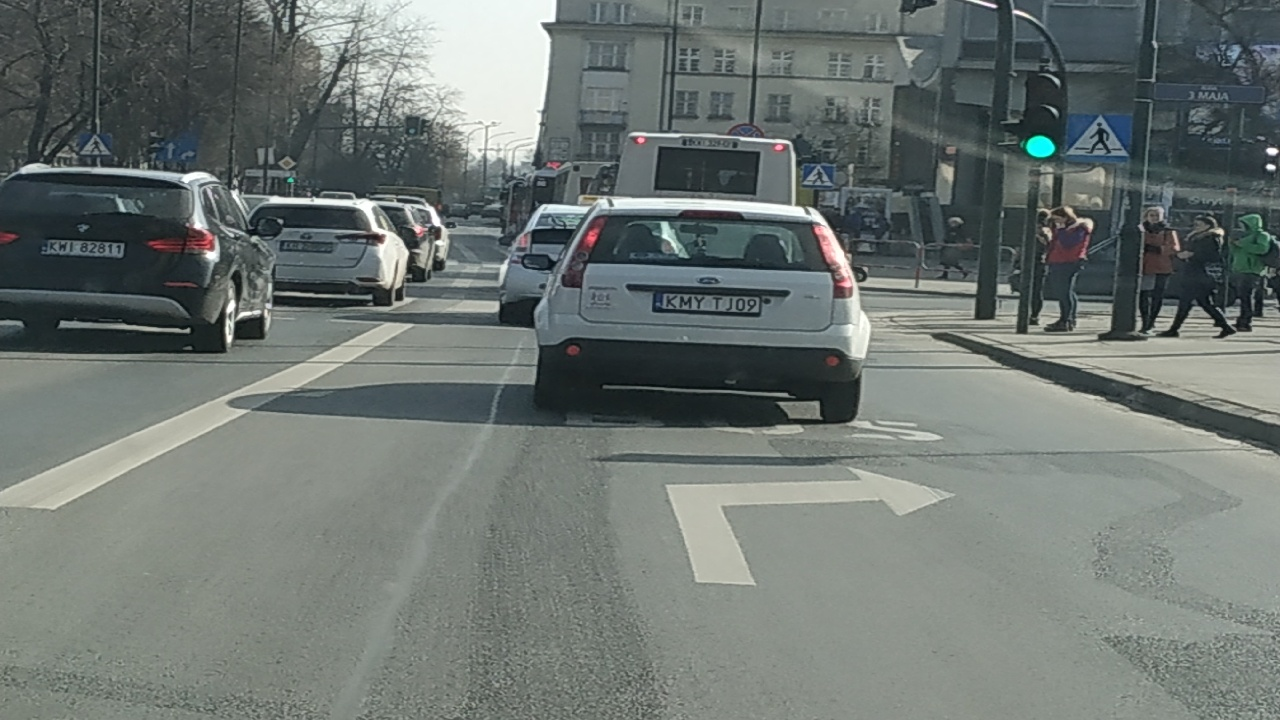D6: (1057, 106, 1144, 170), (800, 157, 836, 193)
